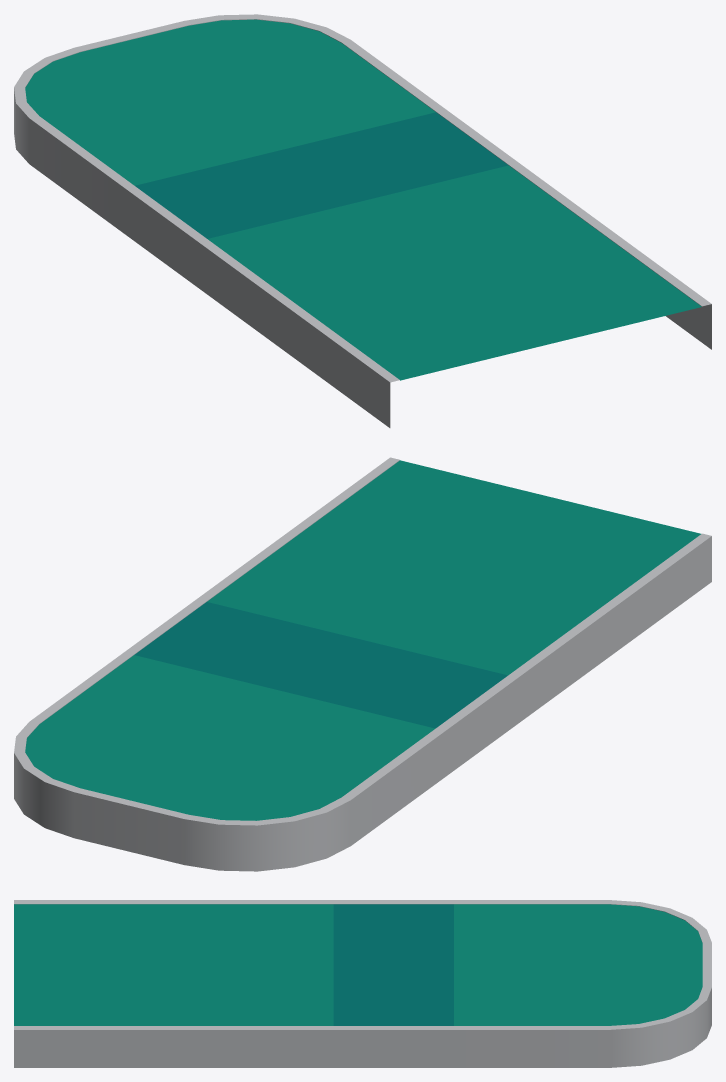
Rendered from nen co.fbx.
The picture shows the model from 3 angles, top to bottom: view 1: azimuth 30°, elevation 25°; view 2: azimuth 150°, elevation 25°; view 3: azimuth 270°, elevation 25°; orthographic projection. The views are drawn at different scales.
Visible parts, largest first — view 1: sanco; view 2: sanco; view 3: sanco.
Boxes of the visible parts, x1,y1,x2,y2 form: sanco: (14,14,711,427); sanco: (14,457,711,871); sanco: (14,900,711,1067).
Size of the model in its own units: 2562 by 350 by 5823.
